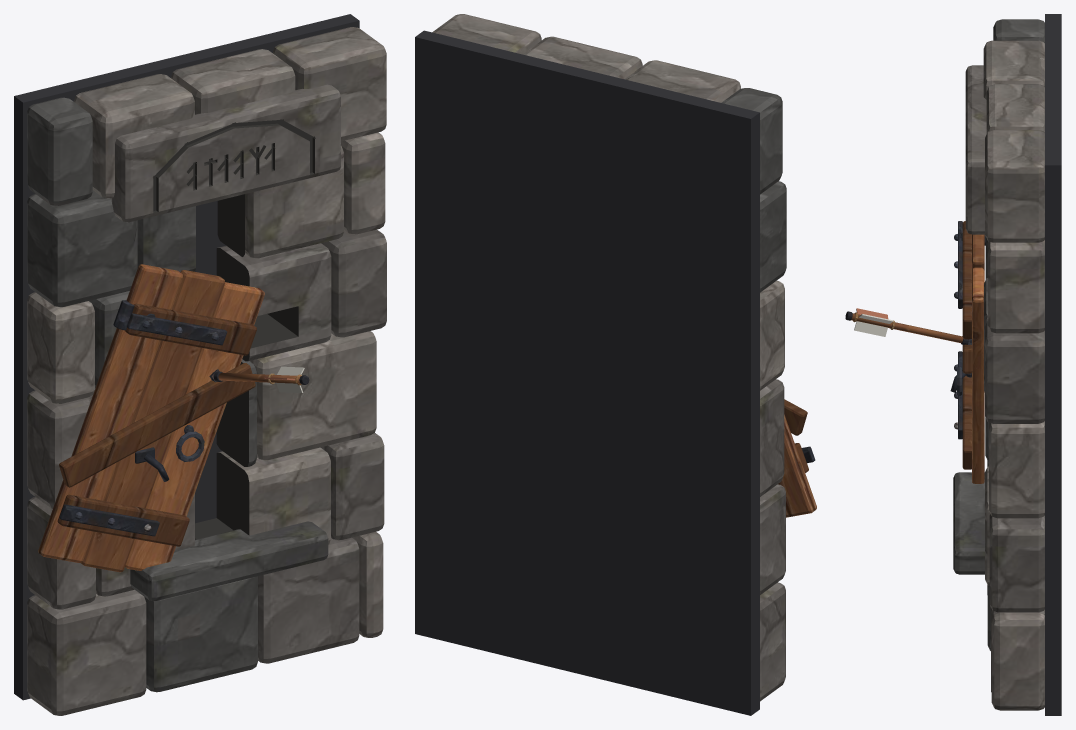
File: rt_arrow_slit_shutter.glb
3 views of the same model, side by side, from view 1: azimuth 30°, elevation 25°; view 2: azimuth 150°, elevation 25°; view 3: azimuth 270°, elevation 25° (orthographic). The views are drawn at different scales.
Parts seen in each view (by area): view 1: model; view 2: model; view 3: model.
Boxes of the visible parts, x1,y1,x2,y2 form: model: (14,14,386,715); model: (415,14,816,715); model: (845,14,1061,715).
Size of the model in its own units: 0.908 by 1.46 by 0.519.
15 materials, 11 textured.
